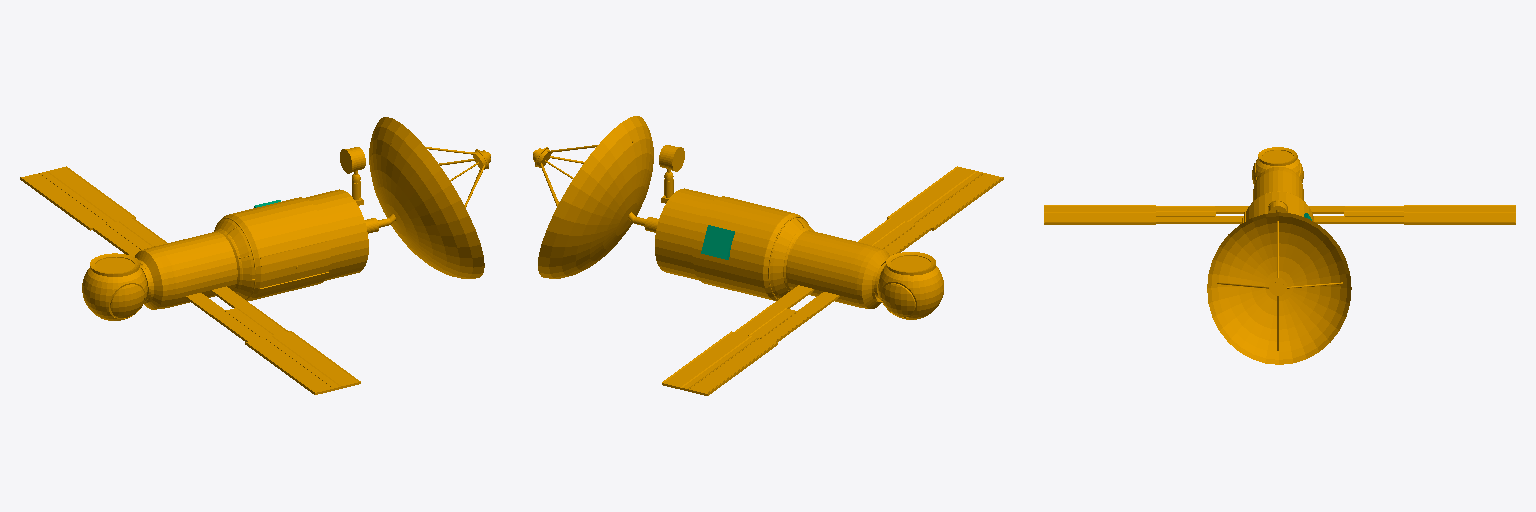
The robot description file, URDF, robot "satellite_15":
<?xml version='1.0' encoding='utf-8'?>
<robot name="satellite_15">
  <link name="base_link">
    <visual>
      <geometry>
        <mesh filename="satellite.stl" />
      </geometry>
    </visual>
    <collision>
      <geometry>
        <mesh filename="satellite.stl" />
      </geometry>
    </collision>
  </link>
  <link name="satellite_15_mount" />
  <joint name="satellite_mount_fixed" type="fixed">
    <parent link="base_link" />
    <child link="satellite_15_mount" />
    <origin xyz="-0.49366891630210286 0.5608585823519294 0.24660813695555958" rpy="0.0 -1.079922418600288 -1.5707963267948966" />
  </joint>
  <link name="mount_support">
    <visual>
      <geometry>
        <mesh filename="mount_support.stl" />
      </geometry>
    </visual>
    <collision>
      <geometry>
        <mesh filename="mount_support.stl" />
      </geometry>
    </collision>
  </link>
  <joint name="support_fixed" type="fixed">
    <parent link="satellite_15_mount" />
    <child link="mount_support" />
    <origin xyz="0 0 0" rpy="0 0 0" />
  </joint>
</robot>

--- Facts derived from the render (not from the file) ---
Views: 3 orthographic renders of the robot side by side, from view 1: azimuth 30°, elevation 25°; view 2: azimuth 150°, elevation 25°; view 3: azimuth 270°, elevation 25°.
Robot: satellite_15 — 3 links, 2 joints (2 fixed); root link base_link; default pose: every joint at zero.
Visible links, largest first — view 1: base_link; view 2: base_link, mount_support; view 3: base_link.
Link boxes in pixels (x1,y1,x2,y2): base_link: [20, 117, 490, 394]; base_link: [533, 116, 1003, 395]; mount_support: [701, 225, 734, 259]; base_link: [1044, 147, 1515, 364].
Bounding box of the posed robot: 6.35 × 8 × 2.43 m (x, y, z).
Meshes: 2 distinct files referenced, 2 mesh visuals loaded (2 binary STL).
